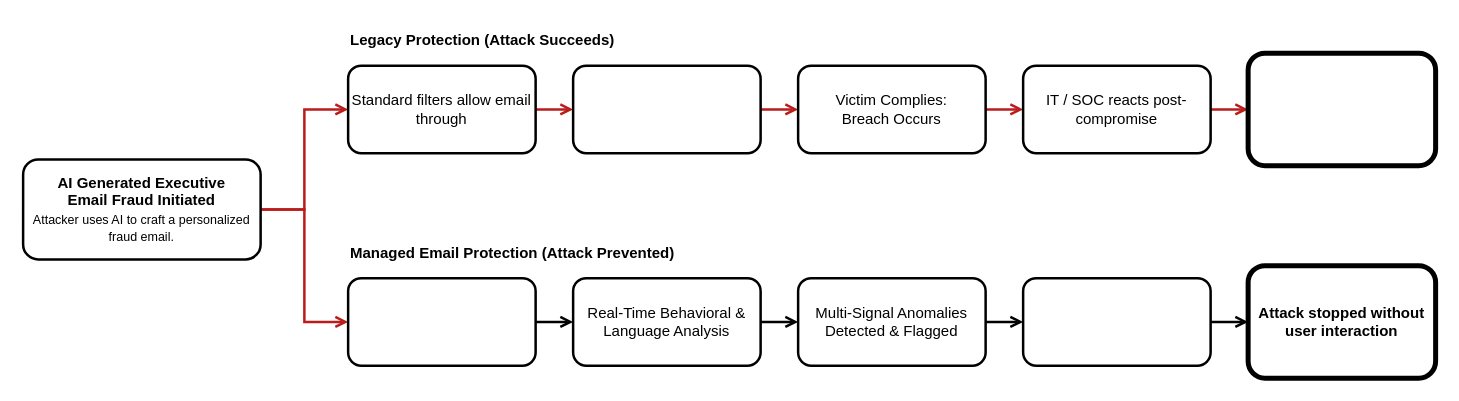
This 1459x401 diagram has some shape labels left out. Each missing label, with the box of its shape:
Email Analysed by Managed Email Service: (346, 276, 536, 366)
Message Removed Pre-Delivery: (1021, 276, 1211, 366)
Operational and Financial Impact Realized: (1245, 50, 1438, 168)
User Receives Fraudulent Email: (571, 64, 761, 154)
